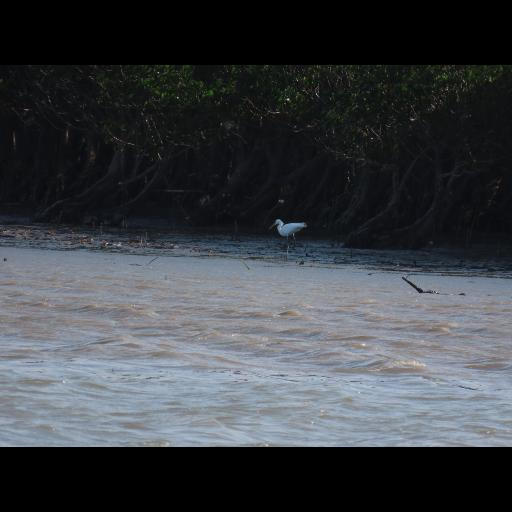chinese_egret: (268, 219, 308, 249)
